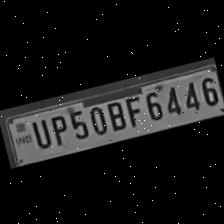0: (83, 100, 108, 136)
4: (176, 76, 200, 113), (158, 82, 182, 118)
5: (63, 105, 90, 142)
6: (138, 86, 165, 124), (196, 70, 222, 107)
B: (102, 96, 128, 133)
F: (120, 90, 144, 128)
P: (44, 109, 70, 146)
U: (26, 114, 51, 150)
